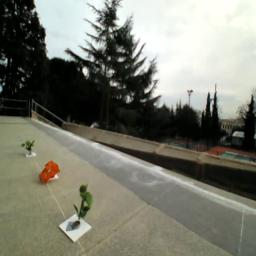herb: (73, 185, 96, 224), (23, 137, 36, 155)
wild: (40, 162, 61, 187)
